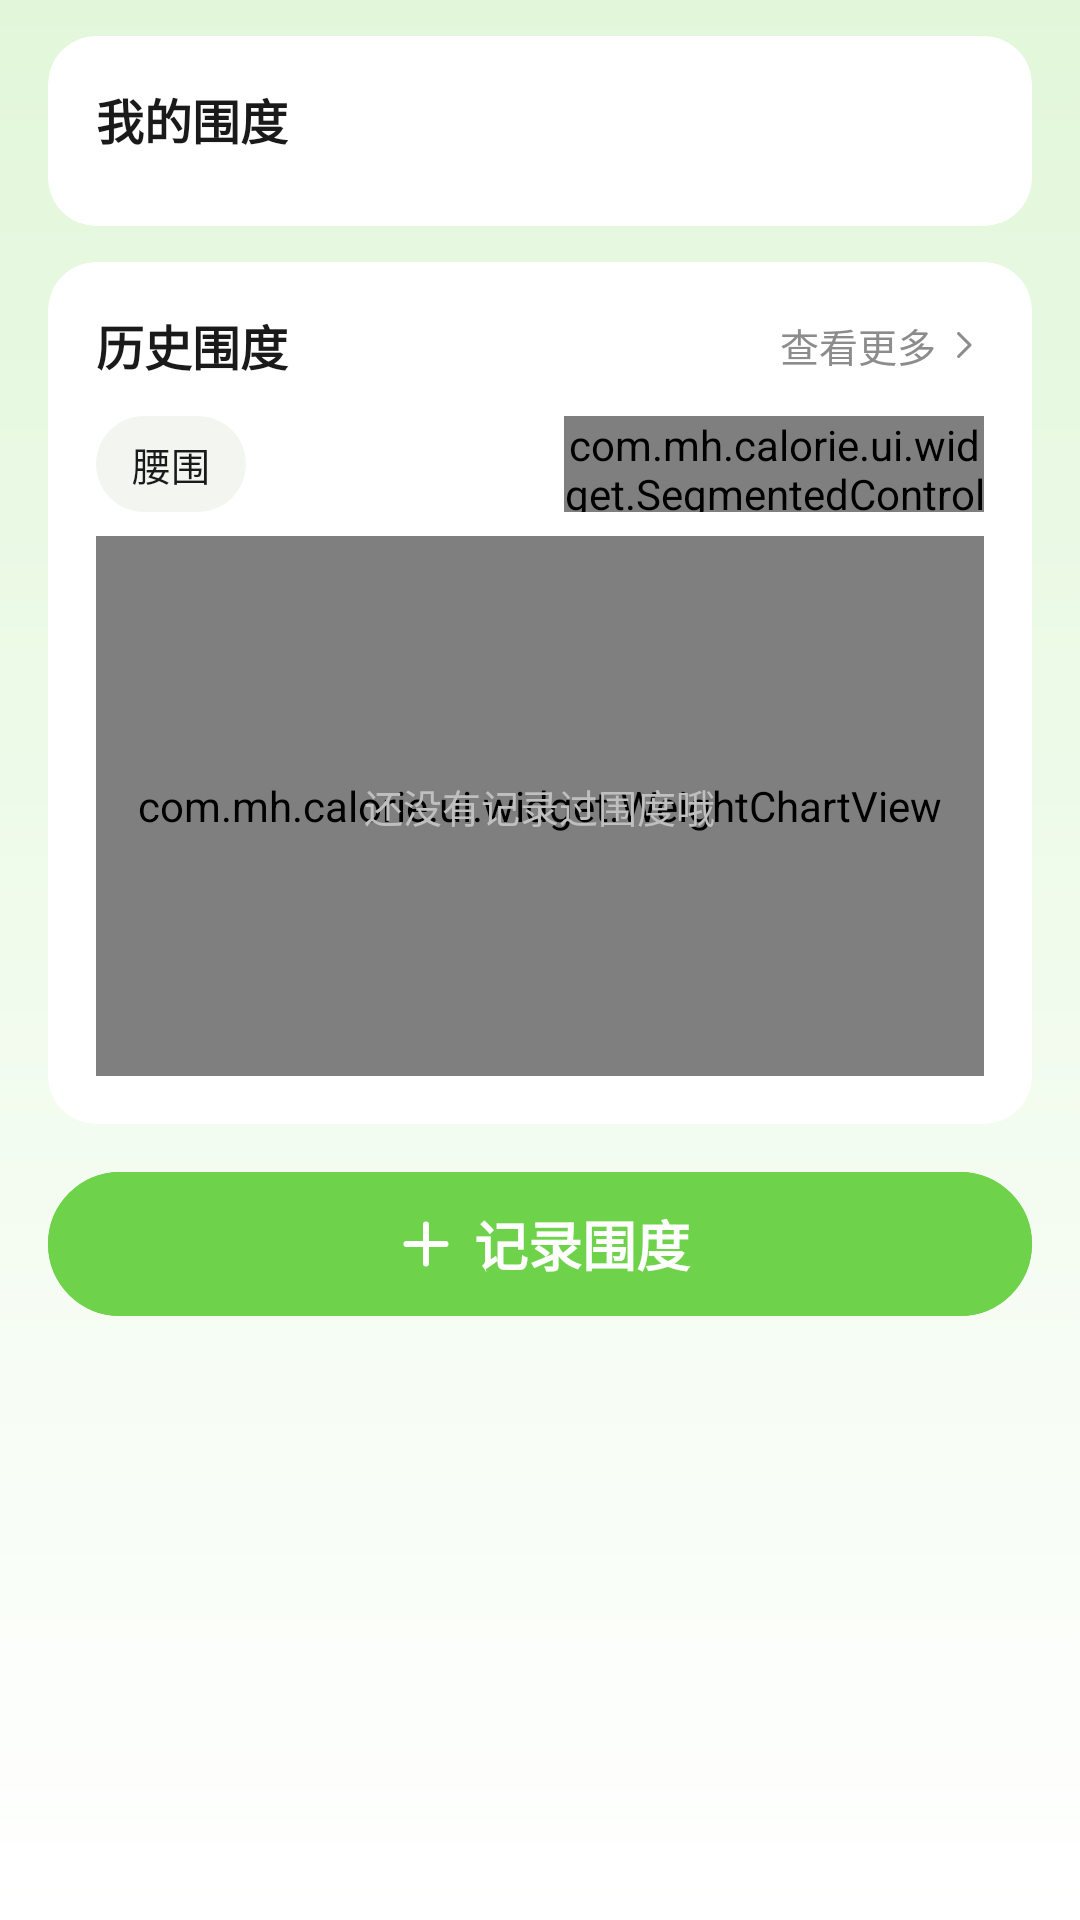

Icon bounding boxes for this 1080 × 1920 phone screenshot, format [x1=x1, y1=y1, x2=x2, y2=y2]:
chevron right: [x1=957, y1=332, x2=972, y2=358]
